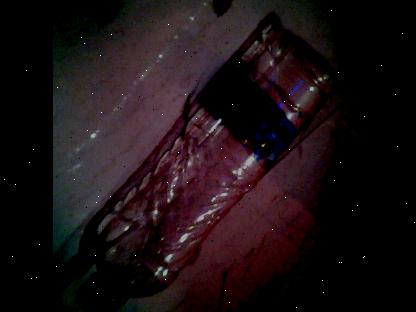Plastic Bottle: (56, 2, 344, 312)
